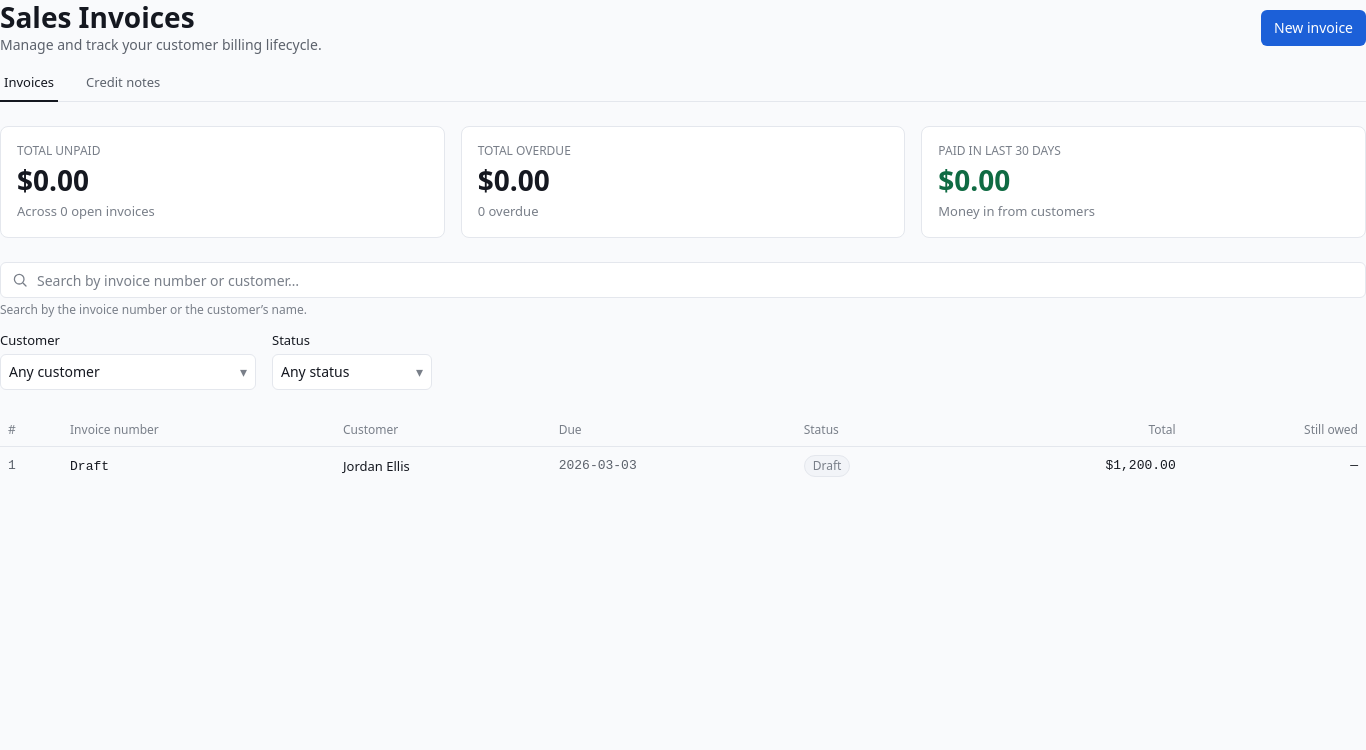
Test: SalesScreen › never uses PATCH to change status, and approves on its own path
Click the button "Draft" at (90, 467), box [70,457,109,477]
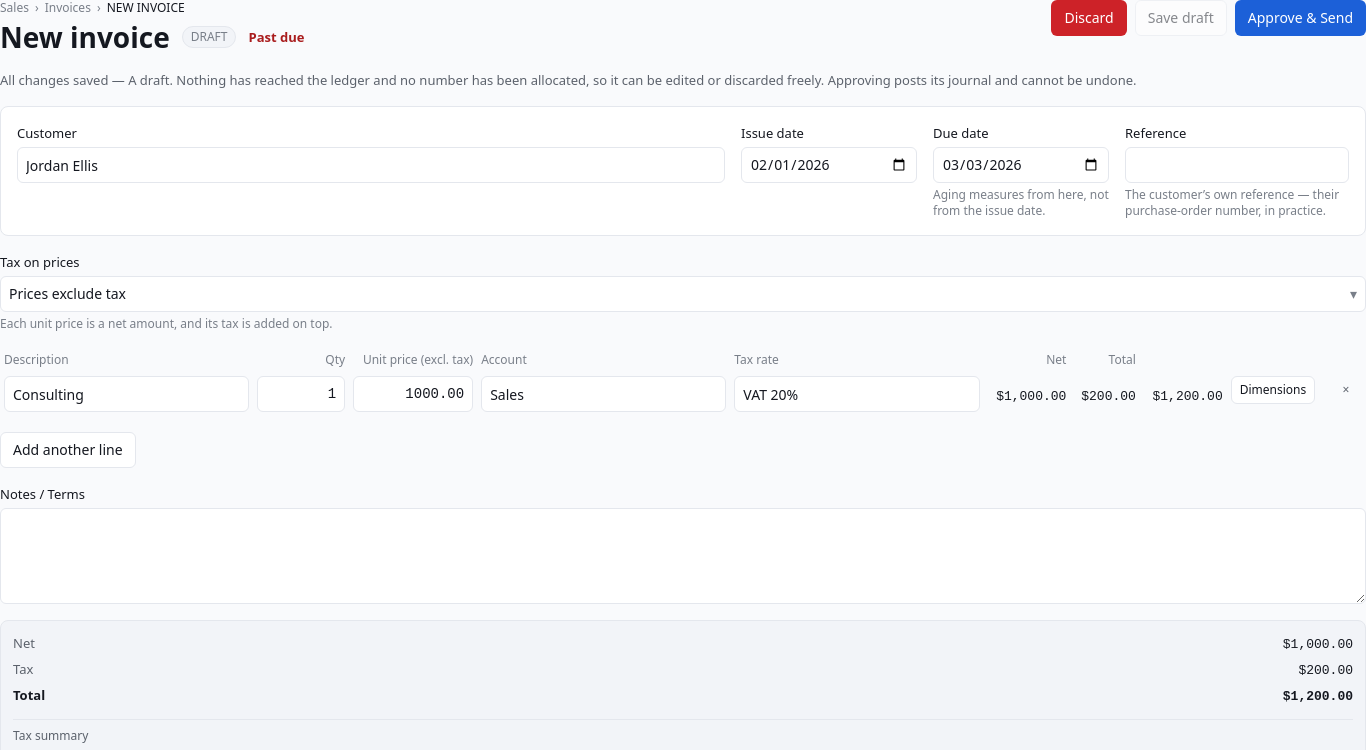
Type "Q1 retainer" into the text box named "Notes / Terms" at (683, 556), box [0,508,1365,604]
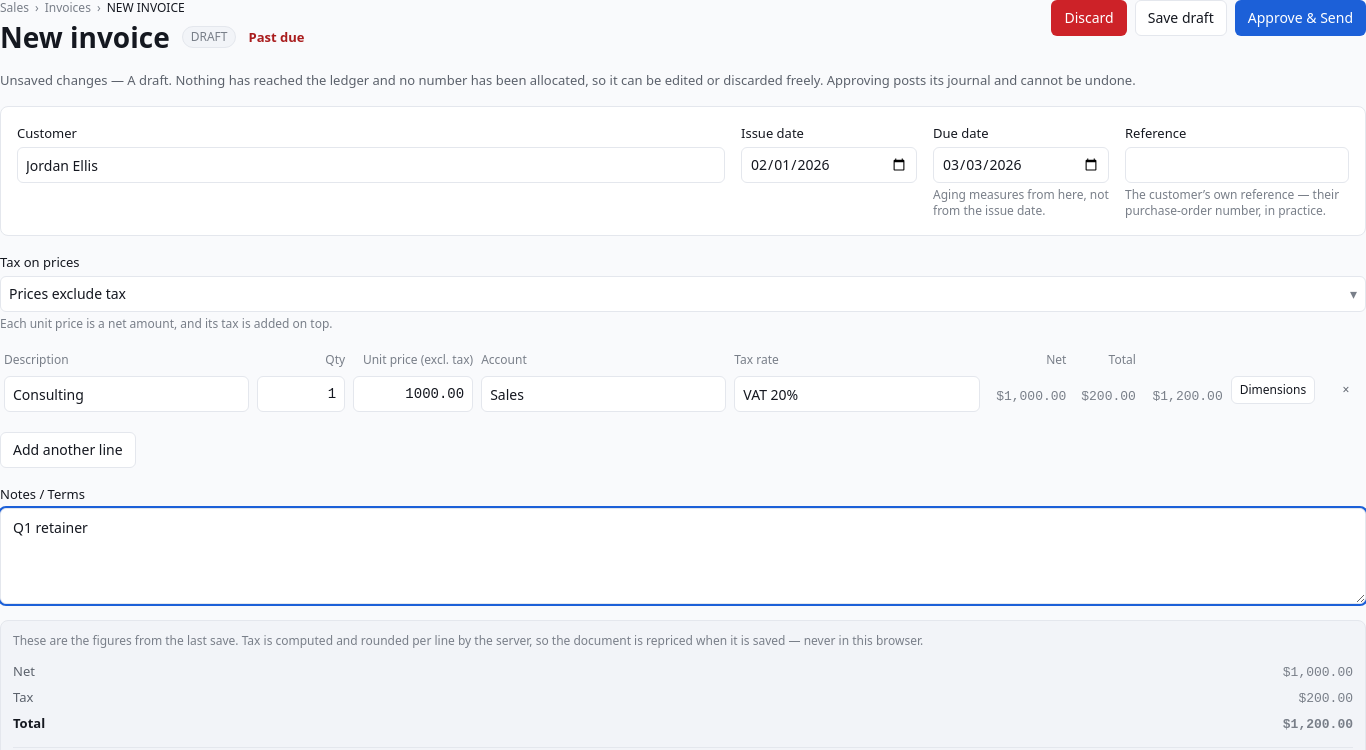
Click the button "Save draft" at (1181, 18), box [1135,0,1227,36]
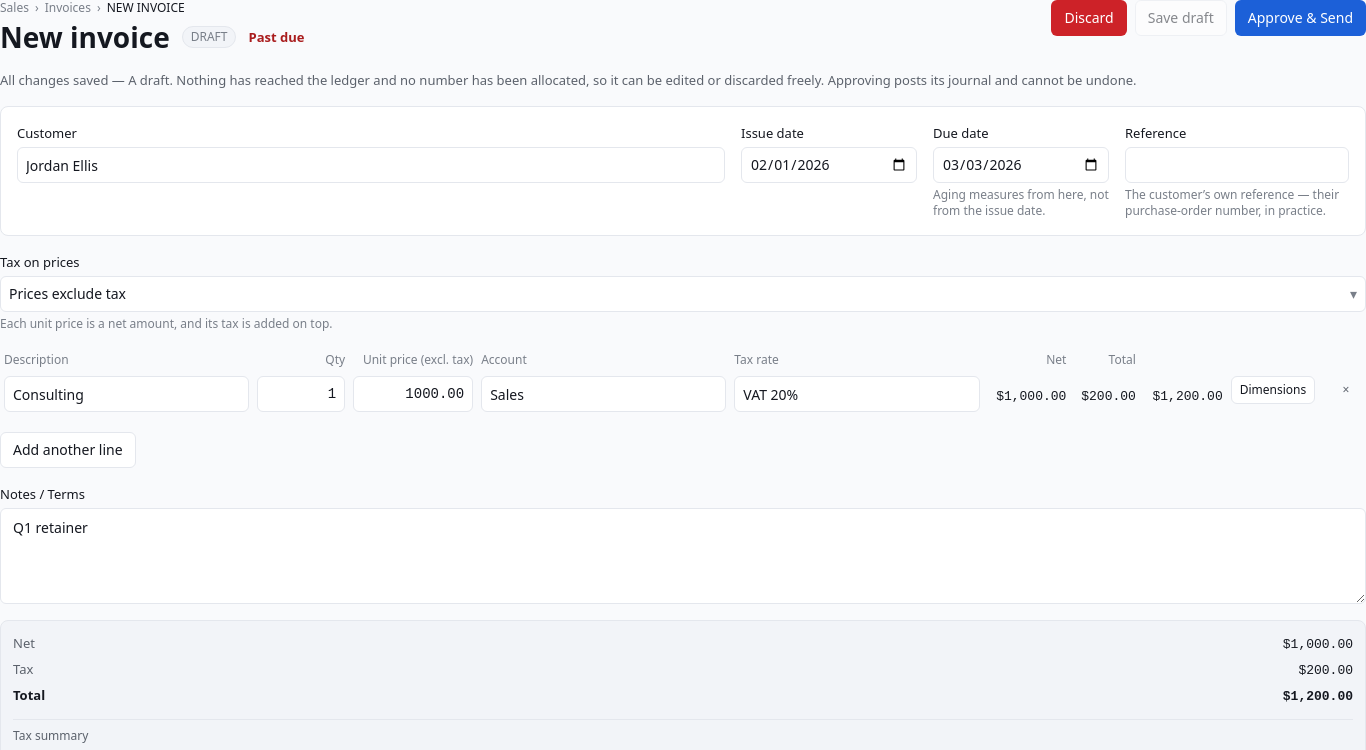
Click the button "Approve & Send" at (1300, 18), box [1235,0,1365,36]
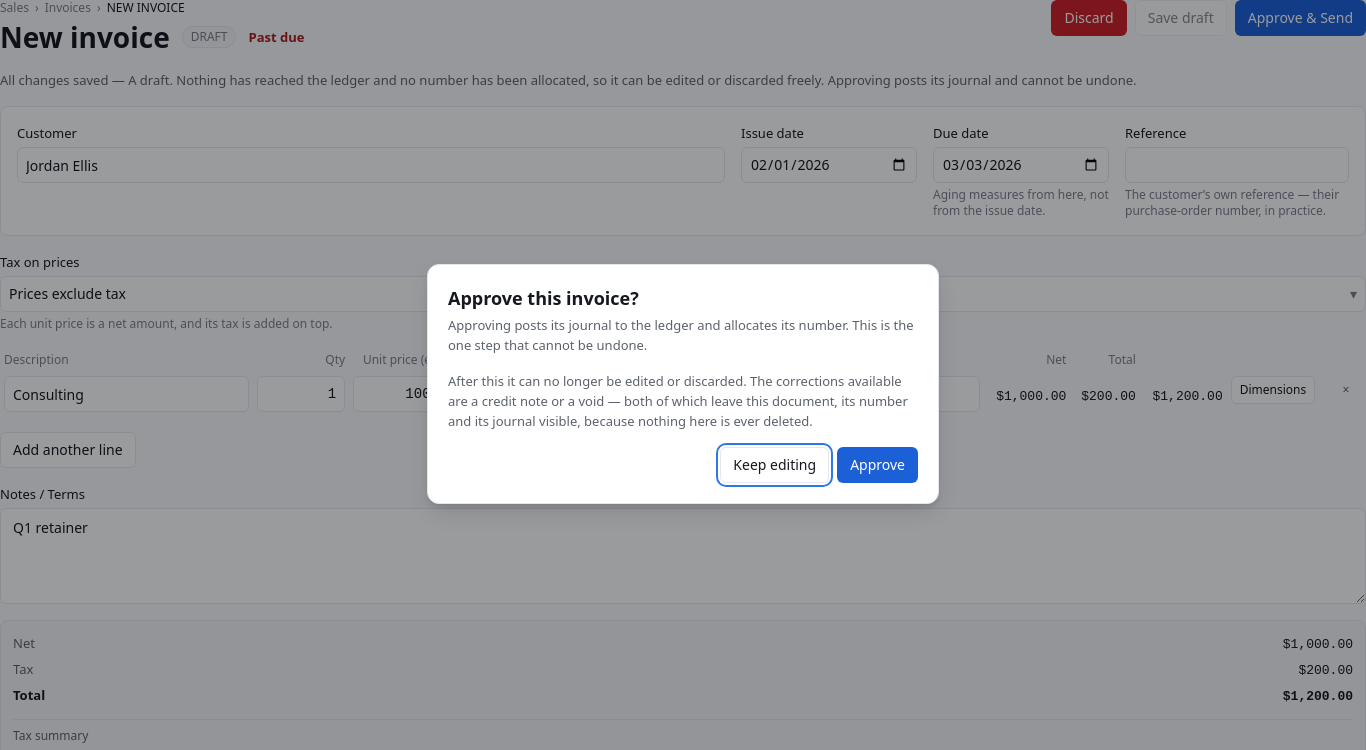
Click the button "Approve" at (878, 465), box [837,447,918,483]
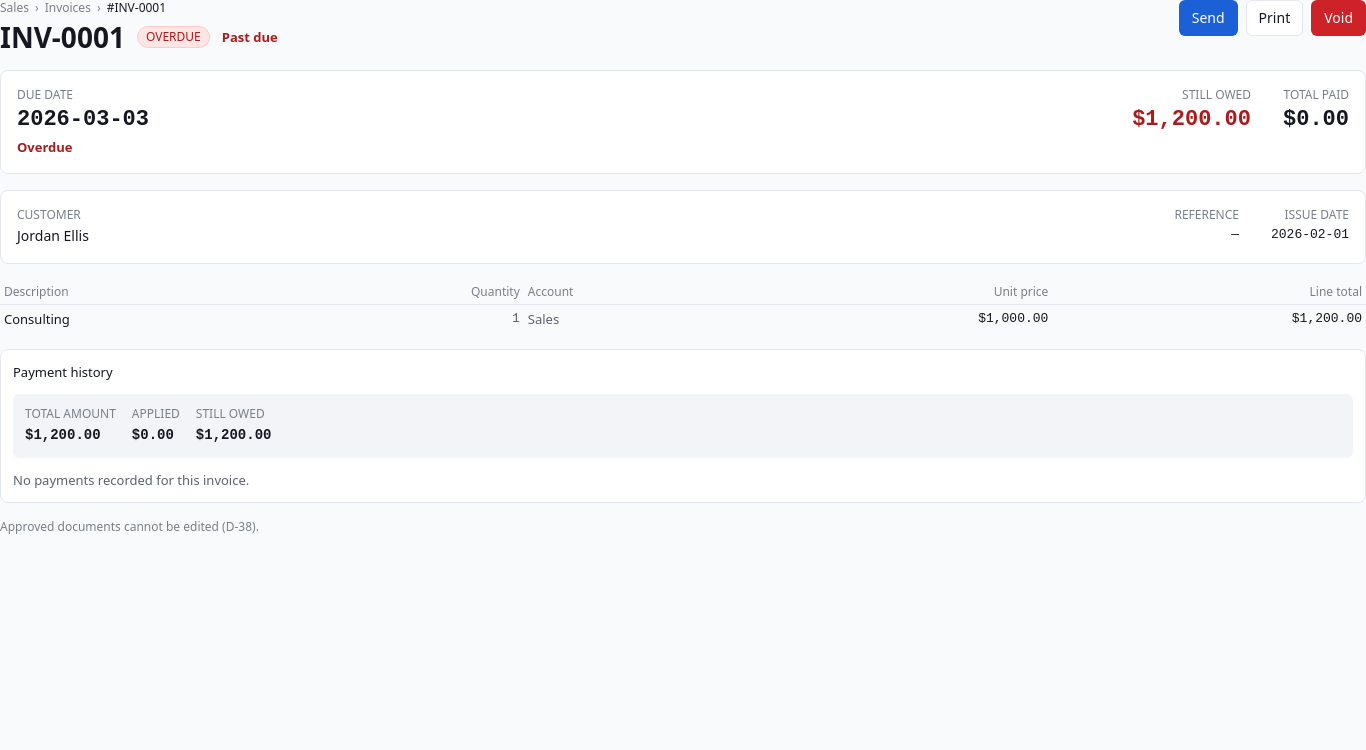
Expected: the heading "INV-0001" is shown, [0,20,125,54]
